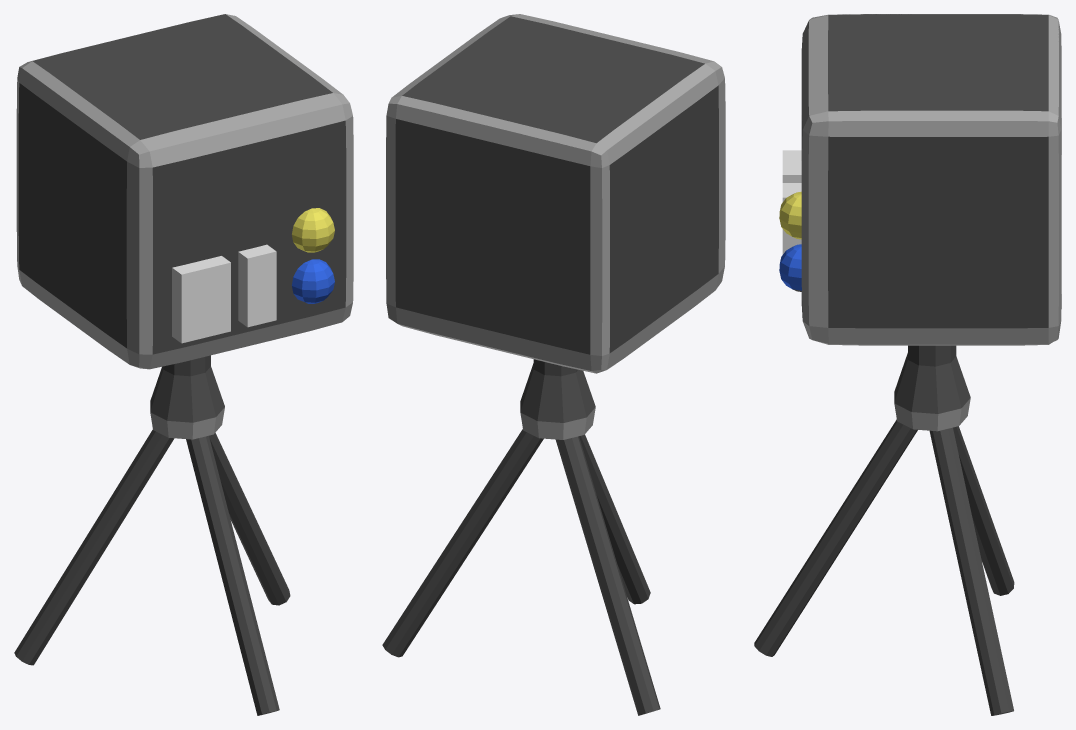
File: LaserMachine.fbx
The picture shows the model from 3 angles, left to right: view 1: azimuth 30°, elevation 25°; view 2: azimuth 150°, elevation 25°; view 3: azimuth 270°, elevation 25°; orthographic projection. The views are drawn at different scales.
Parts seen in each view (by area): view 1: Cube.001, Cube; view 2: Cube.001, Cube; view 3: Cube.001, Cube.
Part boxes in pixels (x1=…): Cube.001: x1=16, y1=14, x2=353, y2=369; Cube: x1=14, y1=355, x2=290, y2=715; Cube.001: x1=386, y1=14, x2=725, y2=373; Cube: x1=382, y1=359, x2=660, y2=715; Cube.001: x1=779, y1=14, x2=1061, y2=345; Cube: x1=754, y1=345, x2=1014, y2=715.
Bounding box in the file's own units: 150 × 304 × 143.
